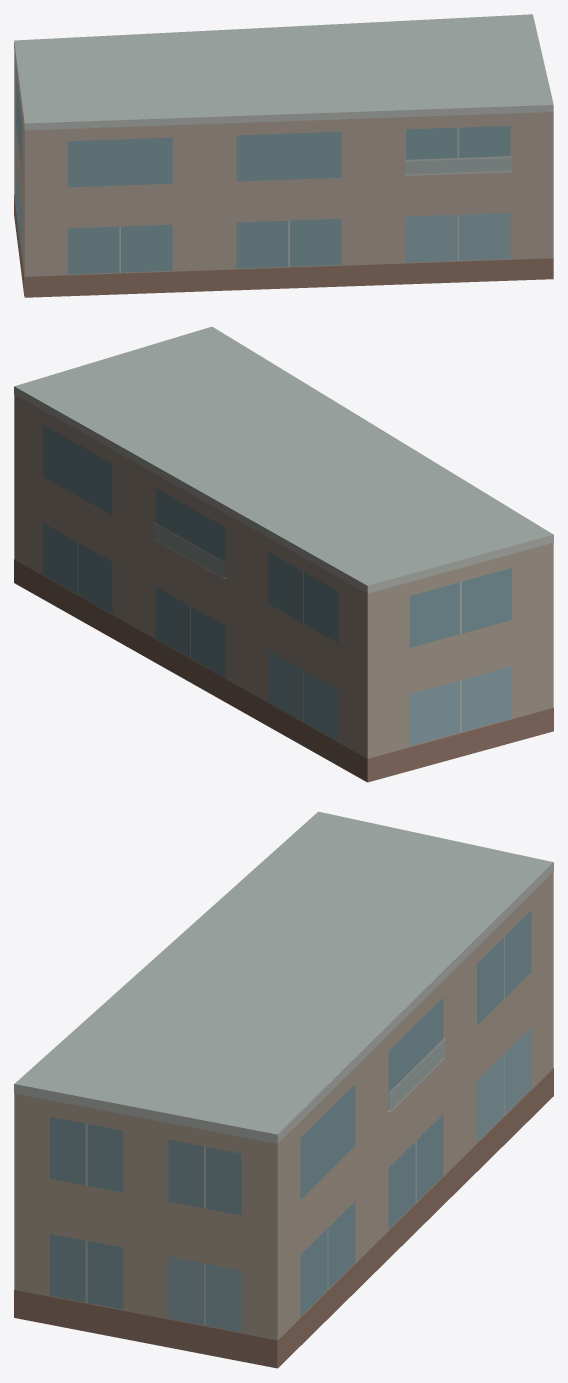
File: survey-upis-32814466.glb
3 renders of one model, top to bottom at view 1: azimuth 30°, elevation 25°; view 2: azimuth 150°, elevation 25°; view 3: azimuth 270°, elevation 25°, orthographic. The views are drawn at different scales.
Visible parts, largest first — view 1: survey-upis-32814466.tmp; view 2: survey-upis-32814466.tmp; view 3: survey-upis-32814466.tmp.
Part boxes in pixels (box(x1,y1,x2,y2)): survey-upis-32814466.tmp: box(14, 14, 553, 297); survey-upis-32814466.tmp: box(14, 326, 553, 782); survey-upis-32814466.tmp: box(14, 811, 553, 1368).
Bounding box in the file's own units: 18.09 × 6.1 × 12.77.
